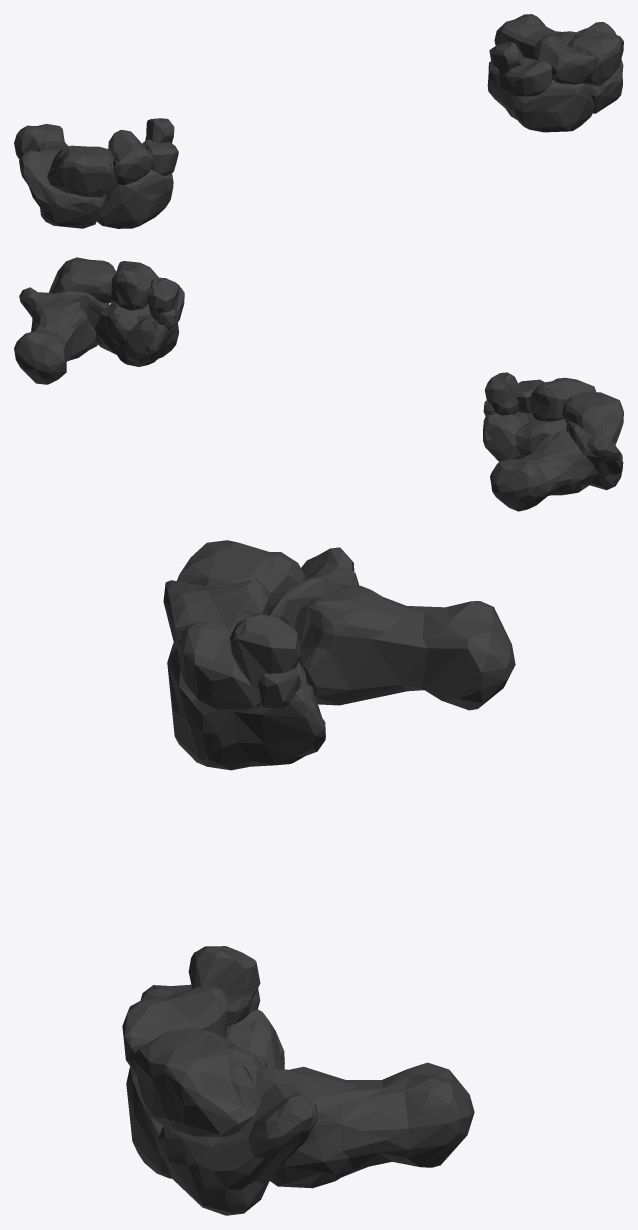
File: b_carpals.glb
3 views of the same model, one above another, from view 1: azimuth 30°, elevation 25°; view 2: azimuth 150°, elevation 25°; view 3: azimuth 270°, elevation 25° (orthographic). The views are drawn at different scales.
Visible parts, largest first — view 1: b_carpals; view 2: b_carpals; view 3: b_carpals.
Part boxes in pixels (<box>): b_carpals: <box>14,14,623,228</box>; b_carpals: <box>14,257,623,511</box>; b_carpals: <box>122,540,515,1215</box>.
Size of the model in its own units: 0.0411 by 0.00579 by 0.012.
1 material, 1 textured.
